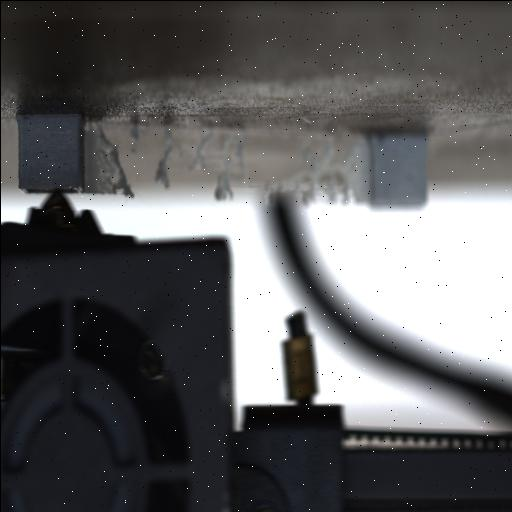stringing: (260, 130, 360, 209), (80, 120, 134, 194), (346, 132, 372, 206), (152, 122, 176, 188), (186, 129, 211, 173)
